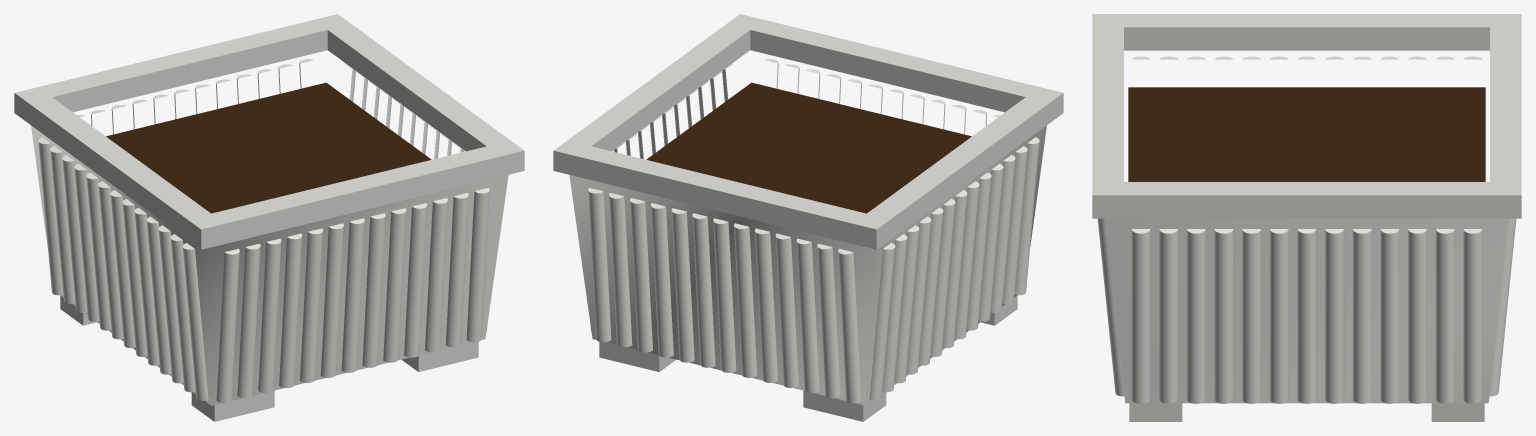
The picture shows the model from 3 angles, left to right: view 1: azimuth 30°, elevation 25°; view 2: azimuth 150°, elevation 25°; view 3: azimuth 270°, elevation 25°; orthographic projection. The views are drawn at different scales.
Visible parts, largest first — view 1: soil, shell, rim-top-f, rim-top-b, rim-top-l, rim-top-r, rim-f, rim-b, flute-0-8, flute-0-12, flute-0-1, flute-0-9 (+26 smaller); view 2: soil, shell, rim-top-b, rim-top-f, rim-top-l, rim-top-r, rim-b, rim-f, flute-1-0, flute-1-4, flute-1-3, flute-1-11 (+26 smaller); view 3: soil, shell, rim-top-l, rim-top-r, rim-top-f, rim-top-b, rim-l, rim-r, flute-2-4, flute-2-6, flute-2-8, flute-2-0 (+15 smaller).
Part boxes in pixels (box(x1,y1,x2,y2)): soil: box(106, 82, 431, 213); shell: box(31, 125, 508, 405); rim-top-f: box(187, 140, 524, 238); rim-top-b: box(14, 14, 350, 111); rim-top-l: box(28, 97, 210, 227); rim-top-r: box(327, 24, 510, 148); rim-f: box(187, 160, 524, 249); rim-b: box(14, 39, 327, 122); flute-0-8: box(383, 208, 406, 362); flute-0-12: box(466, 188, 489, 342); flute-0-1: box(237, 243, 260, 398); flute-0-9: box(404, 203, 427, 357); soil: box(646, 82, 971, 213); shell: box(569, 125, 1046, 405); rim-top-b: box(553, 140, 890, 238); rim-top-f: box(727, 14, 1063, 111); rim-top-l: box(867, 97, 1049, 227); rim-top-r: box(567, 24, 750, 148); rim-b: box(553, 160, 890, 249); rim-f: box(750, 39, 1063, 122); flute-1-0: box(588, 188, 611, 342); flute-1-4: box(671, 208, 694, 362); flute-1-3: box(650, 203, 673, 357); flute-1-11: box(817, 243, 840, 398); soil: box(1128, 87, 1485, 181); shell: box(1105, 218, 1508, 403); rim-top-l: box(1124, 14, 1489, 37); rim-top-r: box(1124, 182, 1489, 205); rim-top-f: box(1092, 14, 1123, 205); rim-top-b: box(1490, 14, 1521, 205); rim-l: box(1124, 38, 1489, 50); rim-r: box(1124, 206, 1489, 218); flute-2-4: box(1242, 229, 1261, 403); flute-2-6: box(1297, 229, 1316, 403); flute-2-8: box(1352, 229, 1371, 403); flute-2-0: box(1131, 229, 1150, 403).
Size of the model in its own units: 0.4 by 0.25 by 0.4.
